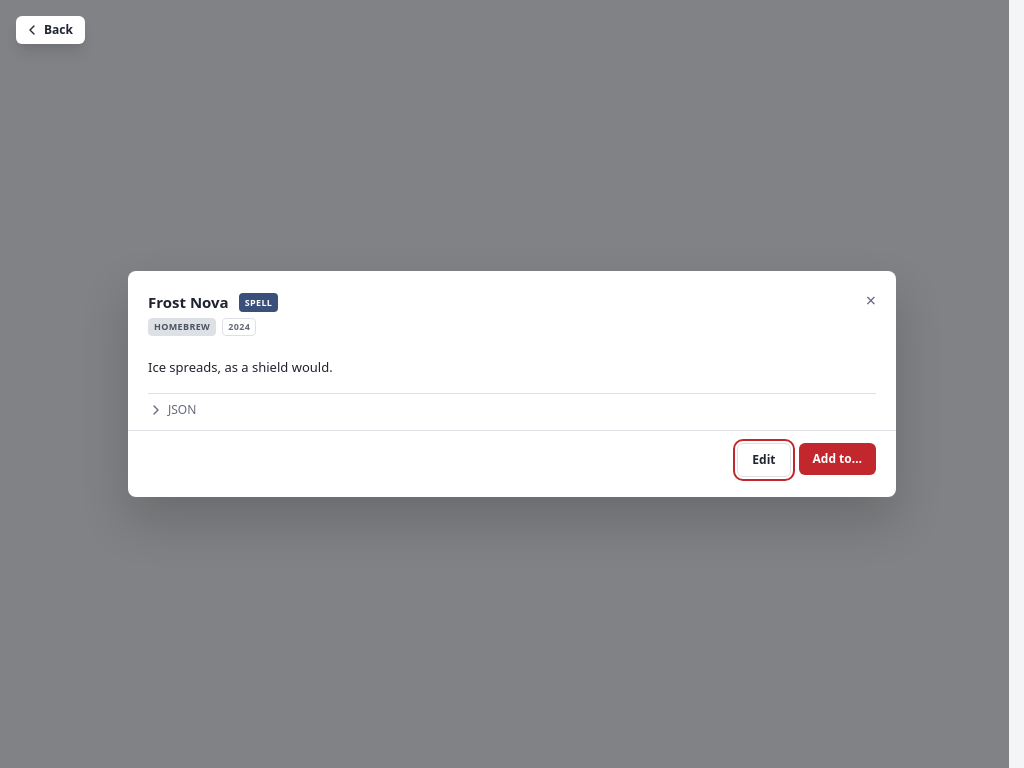
Test: EditHomebrewButton › opens the Settings editor on the stored spell over the detail, saying the change reaches every holder
Step 1. Click the button "Edit" → (764, 460), box [737,443,790,477]
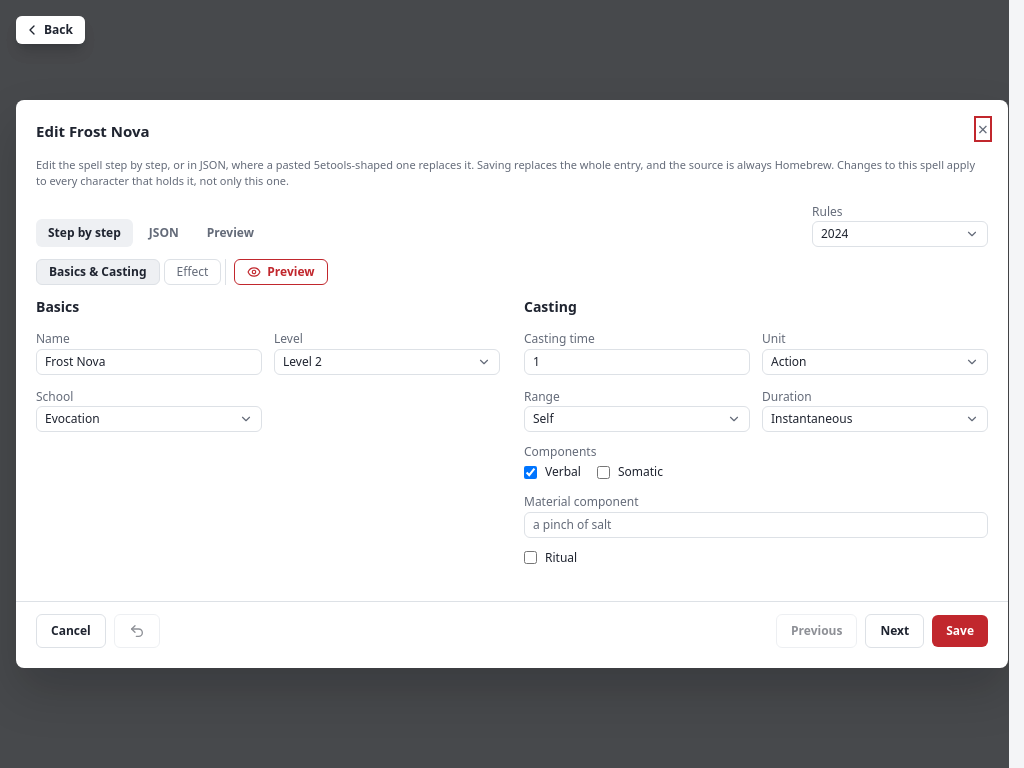
Expected: the 1st dialog is shown
Expected: the heading "Edit Frost Nova" is shown, [36,120,150,142]
Expected: the field labelled "Name" holds "Frost Nova", [36,348,262,374]
